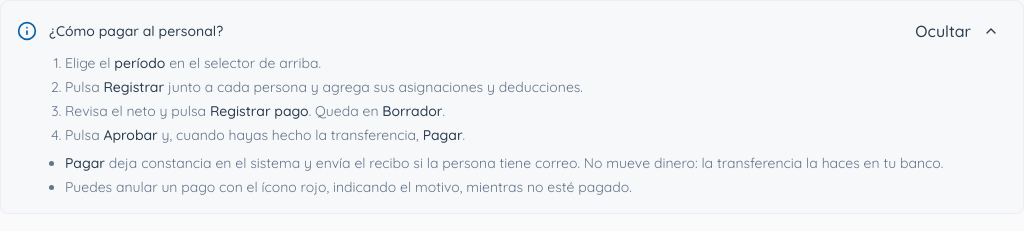
Test: PayrollGuide › opens by default and remembers when it was hidden
Later steps or results of the test are not shown.
Expected: the text "Registrar pago" is shown, left=210, top=102, right=309, bottom=120
Click the button "Ocultar": {"x": 957, "y": 31} left=907, top=17, right=1007, bottom=45
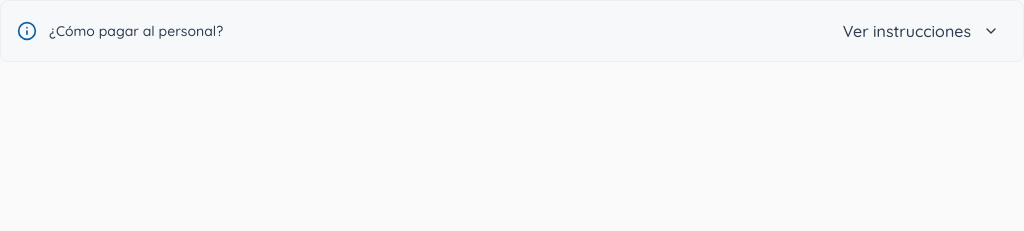
Expected: the text "Registrar pago" is gone
